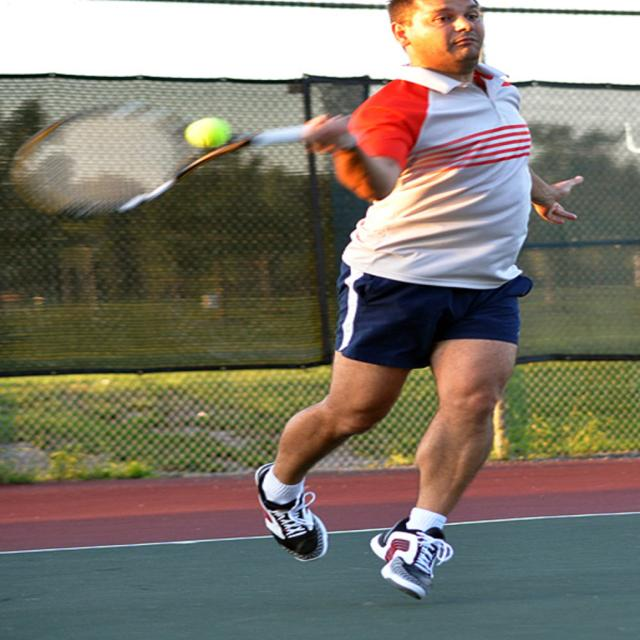Tennis ball: (187, 115, 235, 149)
